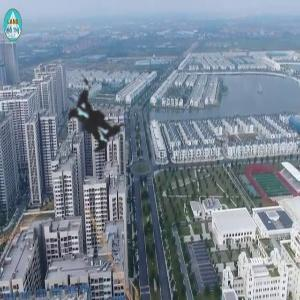drone: (24, 44, 173, 193)
